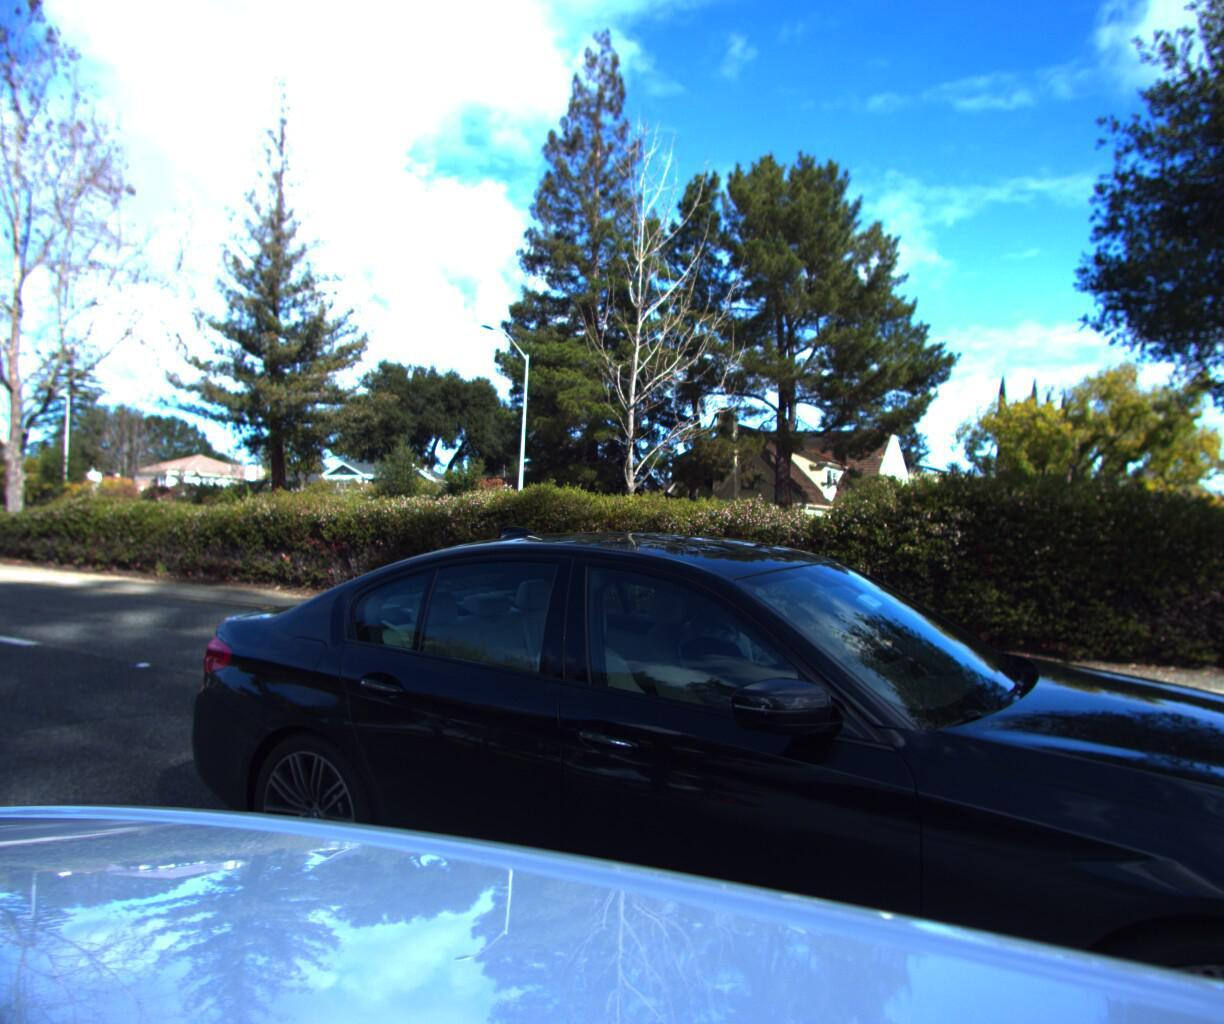car: (123, 504, 1224, 1024)
